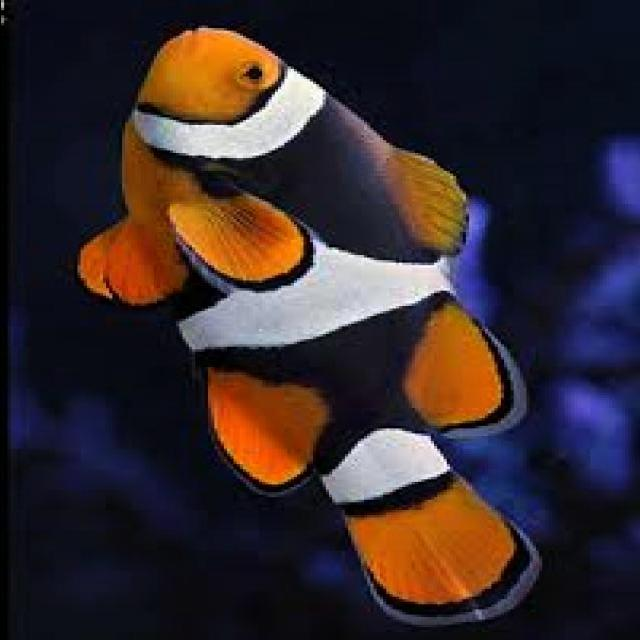ClownFish: (68, 28, 546, 626)
